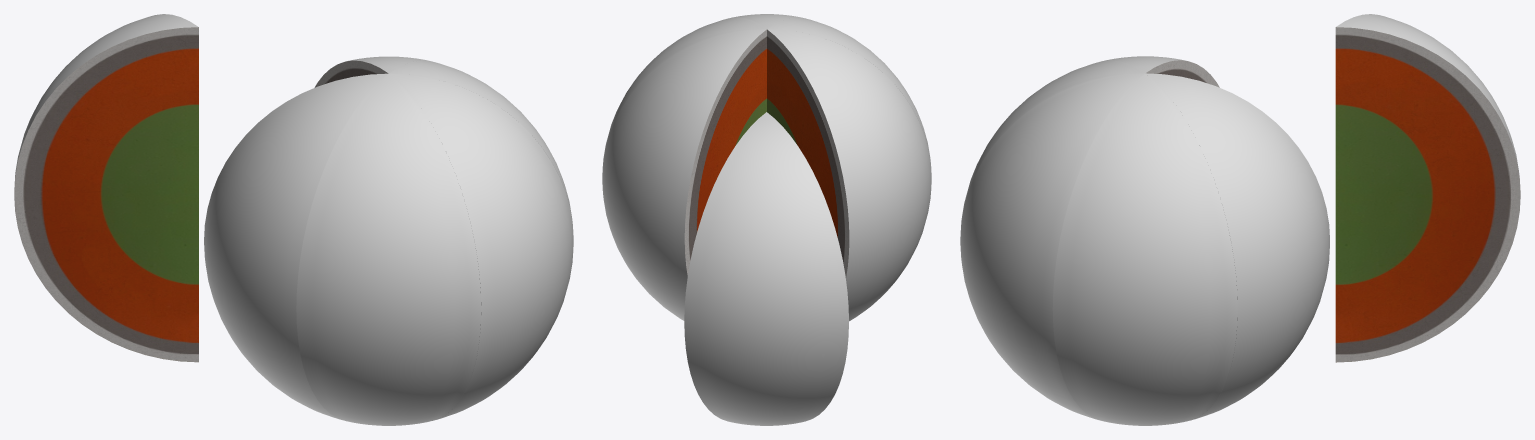
The model's file is HearingBook_r6.gltf.
3 renders of one model, left to right at view 1: azimuth 30°, elevation 25°; view 2: azimuth 150°, elevation 25°; view 3: azimuth 270°, elevation 25°, orthographic. The views are drawn at different scales.
Visible parts, largest first — view 1: Slice 3, Slice 1-Mat, Slice 2-Pottery White, Slice 4, Slice 5, Slice 1-Pottery White, Slice 6-Mat, Slice 6-Pottery White; view 2: Slice 1-Pottery White, Slice 6-Pottery White, Slice 2-Pottery White, Slice 2-Mat, Slice 6-Mat, Slice 3, Slice 5, Slice 4; view 3: Slice 5, Slice 1-Mat, Slice 6-Pottery White, Slice 4, Slice 1-Pottery White, Slice 3, Slice 2-Mat, Slice 2-Pottery White.
Boxes of the visible parts, <box> form: Slice 3: <box>296,74,481,425</box>; Slice 1-Mat: <box>14,27,198,362</box>; Slice 2-Pottery White: <box>204,73,388,420</box>; Slice 4: <box>389,73,573,420</box>; Slice 5: <box>389,60,573,257</box>; Slice 1-Pottery White: <box>14,14,197,188</box>; Slice 6-Mat: <box>314,60,388,87</box>; Slice 6-Pottery White: <box>347,56,430,73</box>; Slice 1-Pottery White: <box>684,112,848,425</box>; Slice 6-Pottery White: <box>602,29,766,320</box>; Slice 2-Pottery White: <box>767,29,931,321</box>; Slice 2-Mat: <box>767,29,849,277</box>; Slice 6-Mat: <box>684,29,766,275</box>; Slice 3: <box>767,17,931,190</box>; Slice 5: <box>603,17,766,160</box>; Slice 4: <box>730,14,803,28</box>; Slice 5: <box>1052,73,1237,425</box>; Slice 1-Mat: <box>1335,27,1520,362</box>; Slice 6-Pottery White: <box>1145,73,1329,420</box>; Slice 4: <box>960,73,1144,419</box>; Slice 1-Pottery White: <box>1336,14,1519,175</box>; Slice 3: <box>961,60,1144,222</box>; Slice 2-Mat: <box>1146,60,1219,87</box>; Slice 2-Pottery White: <box>1104,56,1186,73</box>.
Size of the model in its own units: 246 by 200 by 303.
Materials: 2 (1 with a texture image).
